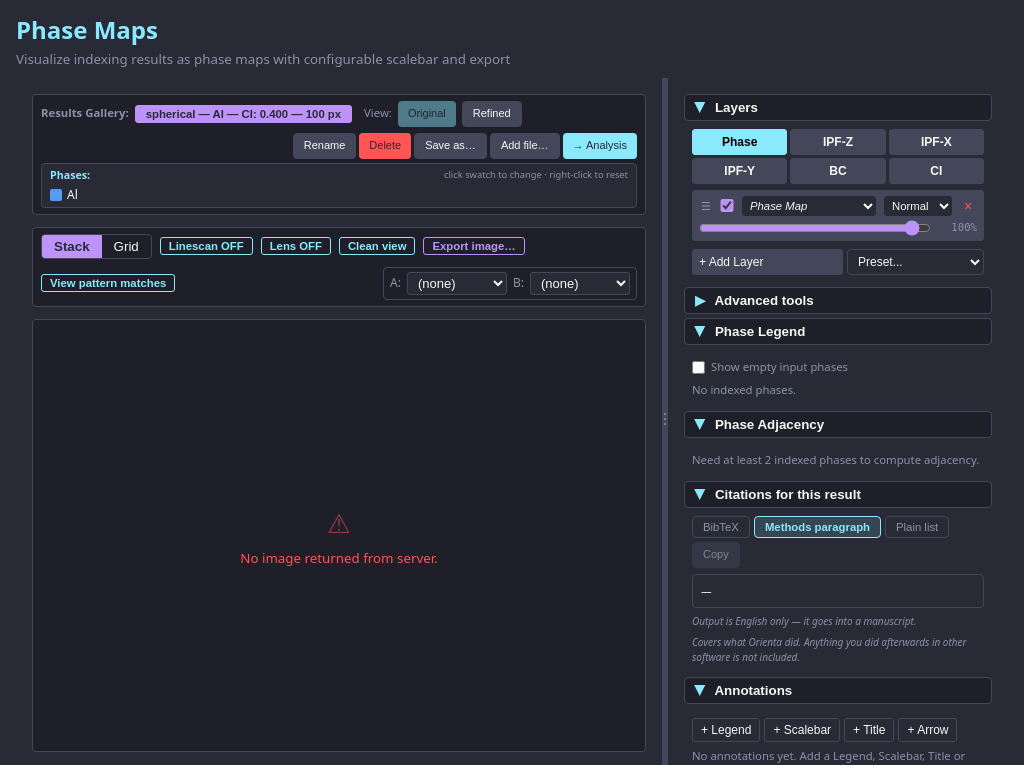
Test case: a result this session did not index › offers the Original/Refined switch from the backend list and activates the refined result
Expected: the button "Original" is disabled, left=398, top=101, right=456, bottom=127
Click the button "Refined" at {"x": 492, "y": 114}, box left=462, top=101, right=522, bottom=127
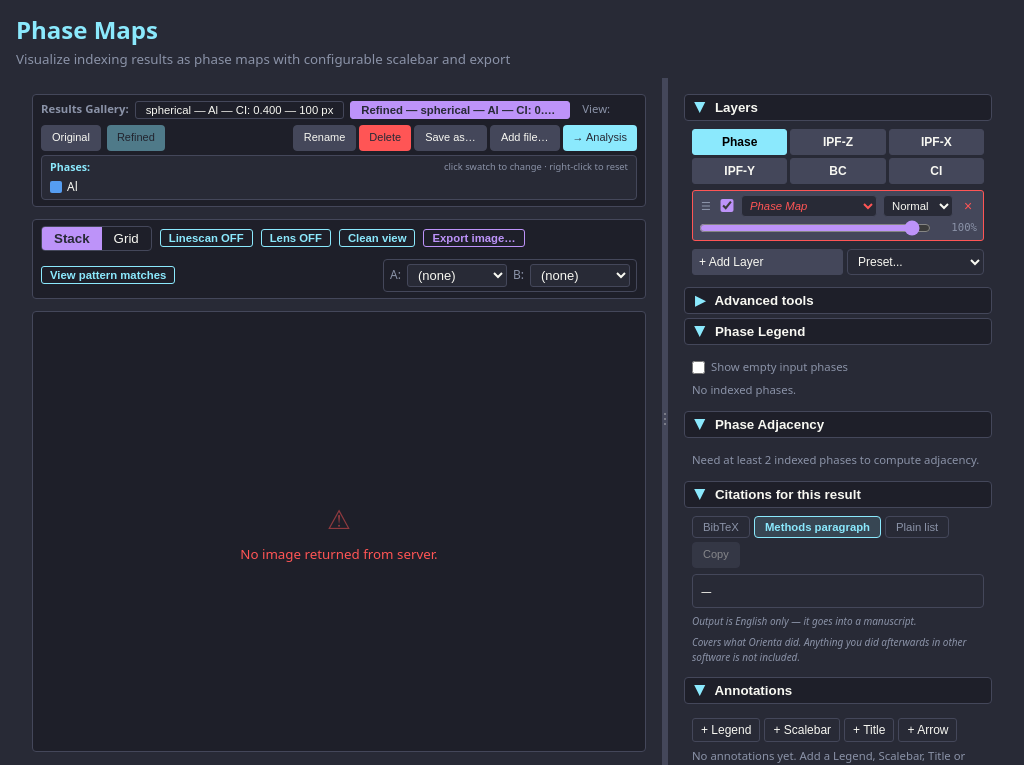
Expected: the button "Refined" is disabled, left=107, top=125, right=165, bottom=151
Expected: the button "Original" is enabled, left=41, top=125, right=101, bottom=151
